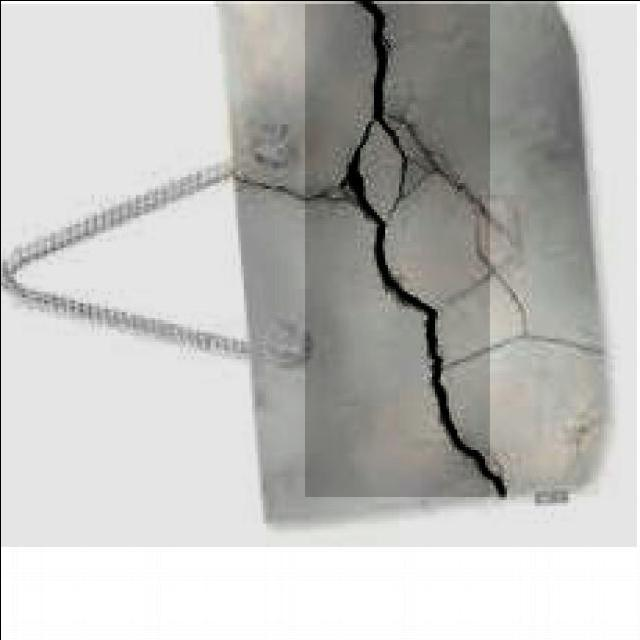Damage-bag: (235, 0, 600, 498)
